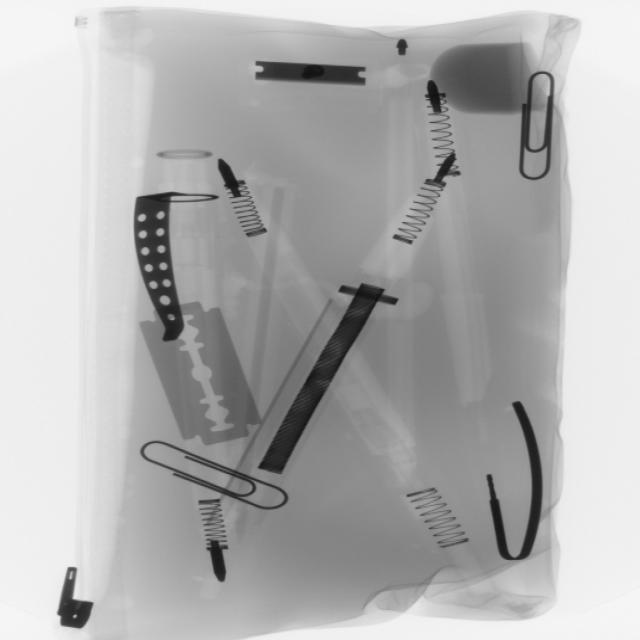BLADE: (137, 291, 264, 456)
